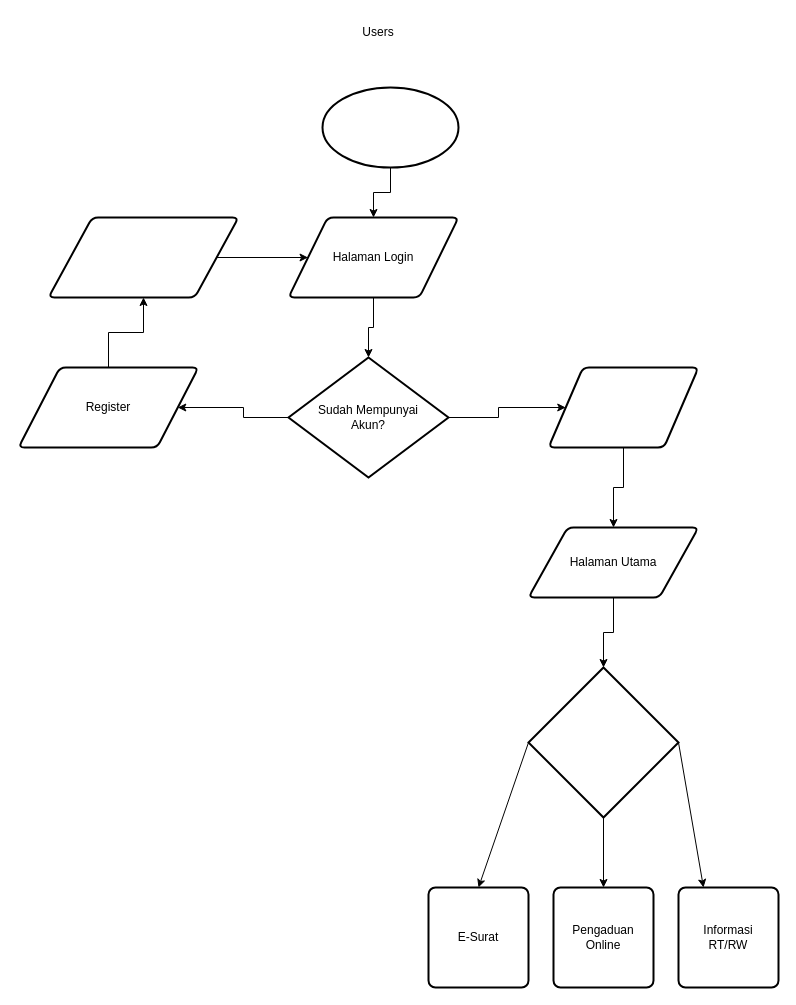
Image size: 796x1005. Some labels were removed from this diagram. The shapes that lost their labels are listed below. From the top down, each one's centre as x and y in pixels, then its label:
the point at 390,127: start
the point at 143,257: Nama, Email, No.HP, Alamat
the point at 623,407: Login
the point at 603,742: Pilih Menu
